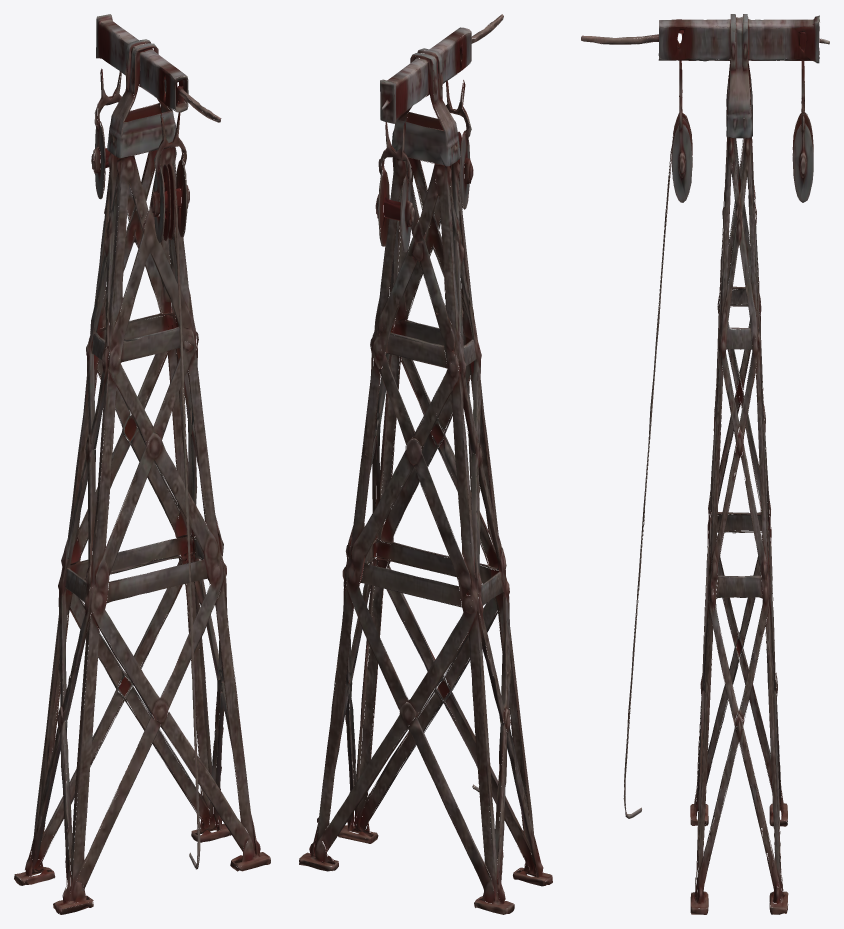
Rendered from torre_andarivel.glb.
3 views of the same model, side by side, from view 1: azimuth 30°, elevation 25°; view 2: azimuth 150°, elevation 25°; view 3: azimuth 270°, elevation 25° (orthographic). The views are drawn at different scales.
Parts seen in each view (by area): view 1: geometry_0; view 2: geometry_0; view 3: geometry_0.
Part boxes in pixels (bbox=[...]): geometry_0: bbox=[14, 14, 270, 914]; geometry_0: bbox=[299, 14, 552, 914]; geometry_0: bbox=[581, 14, 829, 914].
Bounding box in the file's own units: 2.4 × 9 × 2.4.
Materials: 1 (1 with a texture image).
